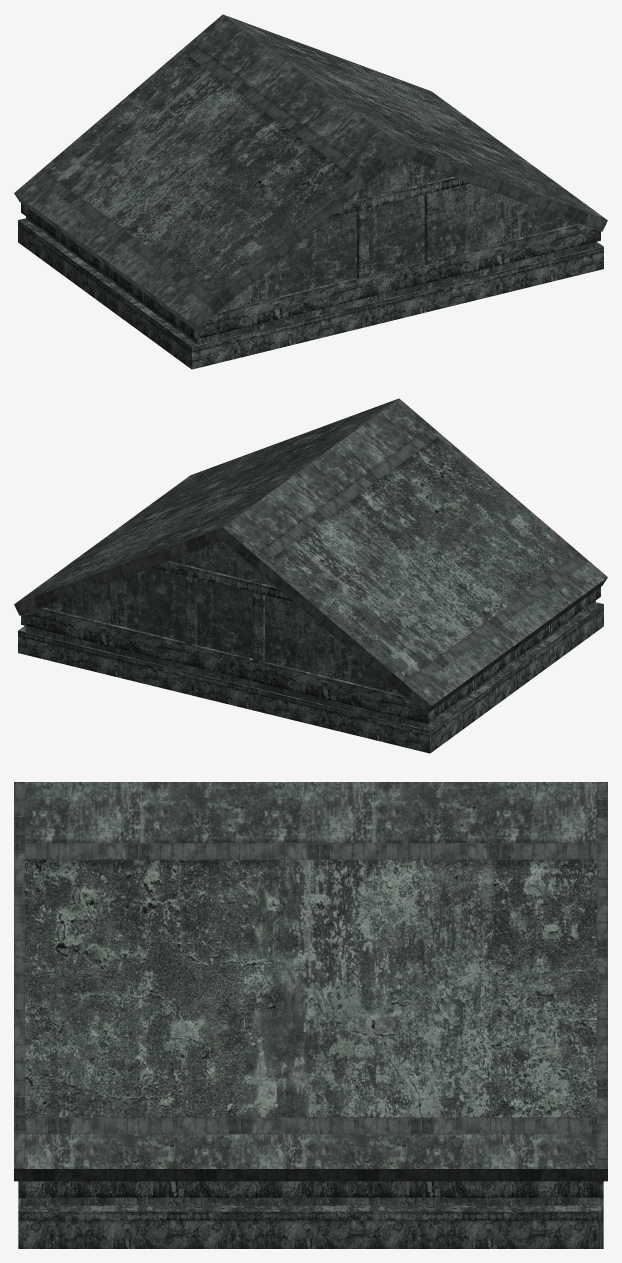
Rendered from mg_9_roof_1.fbx.
3 renders of one model, top to bottom at view 1: azimuth 30°, elevation 25°; view 2: azimuth 150°, elevation 25°; view 3: azimuth 270°, elevation 25°, orthographic. The views are drawn at different scales.
Parts seen in each view (by area): view 1: mg_9_roof_1; view 2: mg_9_roof_1; view 3: mg_9_roof_1.
Boxes of the visible parts, x1,y1,x2,y2 form: mg_9_roof_1: (14,14,607,369); mg_9_roof_1: (14,398,607,753); mg_9_roof_1: (14,782,607,1248).
Bounding box in the file's own units: 707 × 286 × 518.
